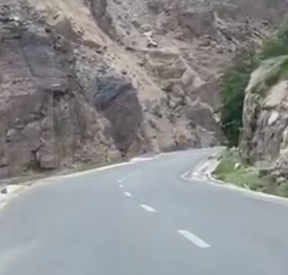stright: (90, 154, 233, 252)
